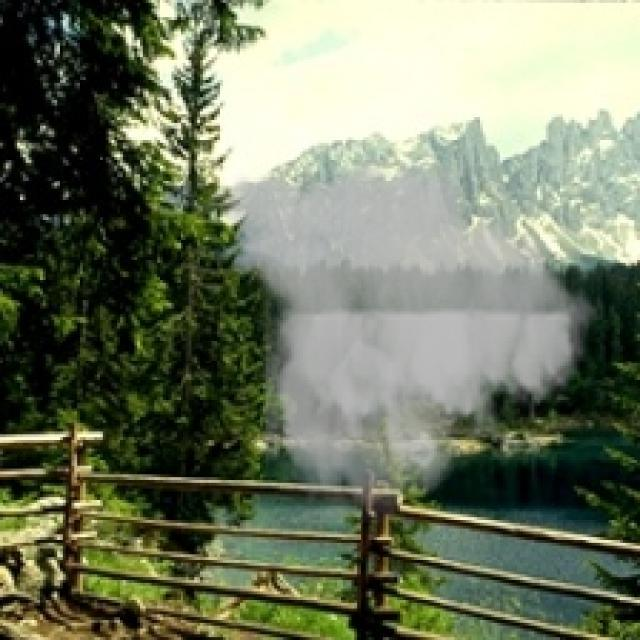Smoke: (202, 148, 608, 523)
